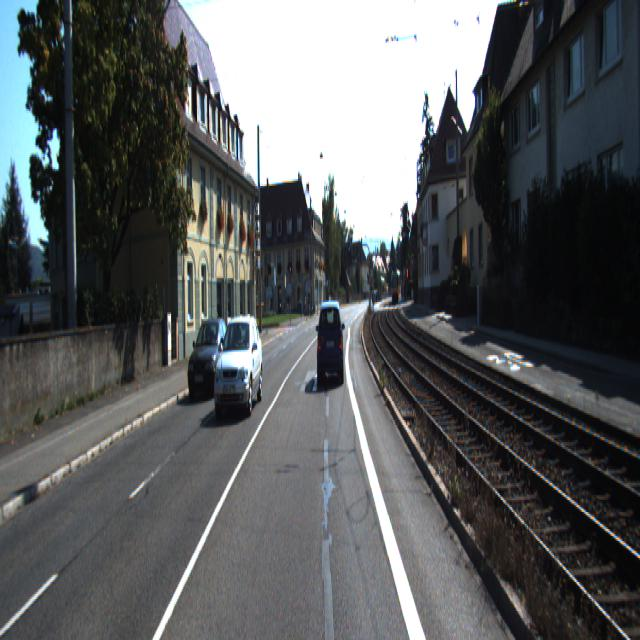Car: (215, 313, 263, 419), (187, 316, 232, 399), (316, 298, 344, 386)
